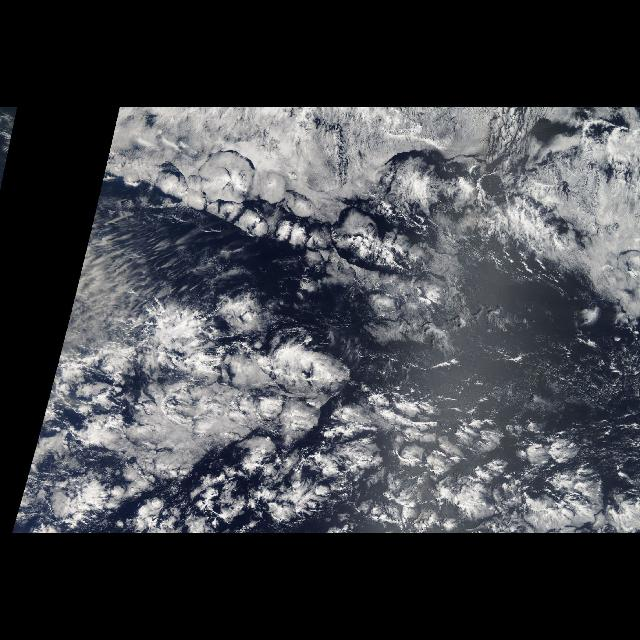Flower: (47, 257, 639, 533)
